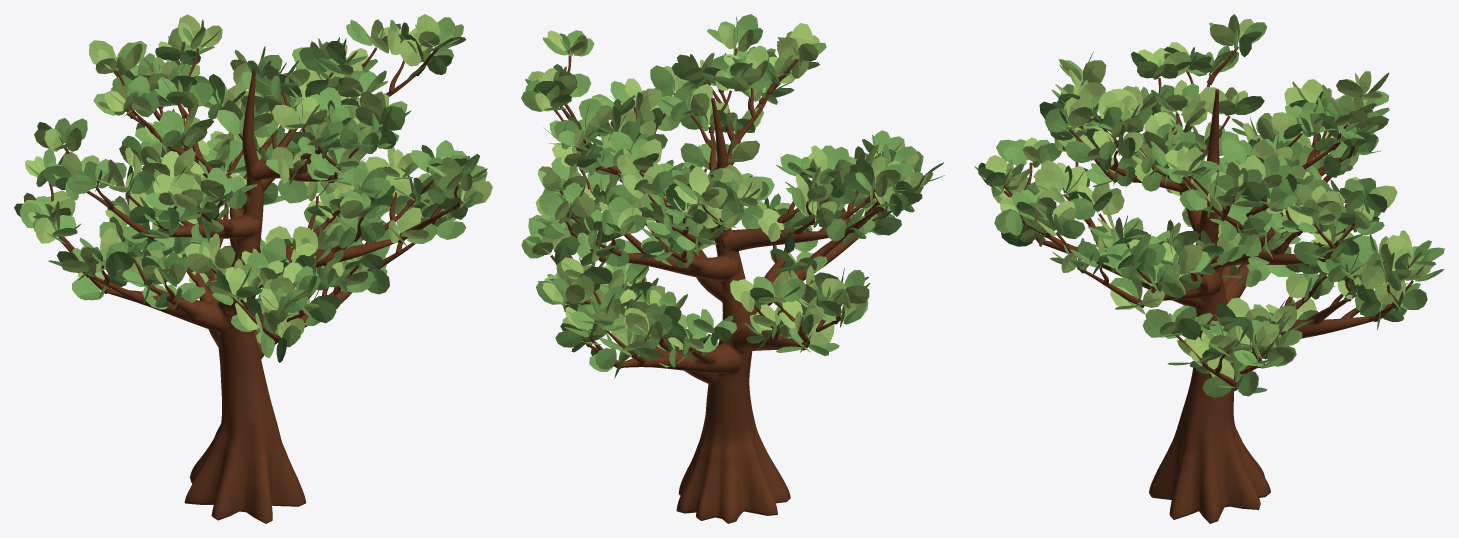
File: Tree_Final2.fbx
The picture shows the model from 3 angles, left to right: view 1: azimuth 30°, elevation 25°; view 2: azimuth 150°, elevation 25°; view 3: azimuth 270°, elevation 25°; orthographic projection. The views are drawn at different scales.
Visible parts, largest first — view 1: Tree_Mature_Asymmetrical_Foliage_LOD0_FBX_Triangulated, Tree_Mature_Asymmetrical_Bark_LOD0_FBX_Triangulated; view 2: Tree_Mature_Asymmetrical_Foliage_LOD0_FBX_Triangulated, Tree_Mature_Asymmetrical_Bark_LOD0_FBX_Triangulated; view 3: Tree_Mature_Asymmetrical_Foliage_LOD0_FBX_Triangulated, Tree_Mature_Asymmetrical_Bark_LOD0_FBX_Triangulated.
Boxes of the visible parts, x1,y1,x2,y2 form: Tree_Mature_Asymmetrical_Foliage_LOD0_FBX_Triangulated: (14, 14, 492, 362); Tree_Mature_Asymmetrical_Bark_LOD0_FBX_Triangulated: (49, 47, 461, 523); Tree_Mature_Asymmetrical_Foliage_LOD0_FBX_Triangulated: (521, 14, 944, 378); Tree_Mature_Asymmetrical_Bark_LOD0_FBX_Triangulated: (550, 48, 892, 523); Tree_Mature_Asymmetrical_Foliage_LOD0_FBX_Triangulated: (974, 14, 1444, 397); Tree_Mature_Asymmetrical_Bark_LOD0_FBX_Triangulated: (1004, 46, 1413, 523).
Size of the model in its own units: 587 by 625 by 604.
